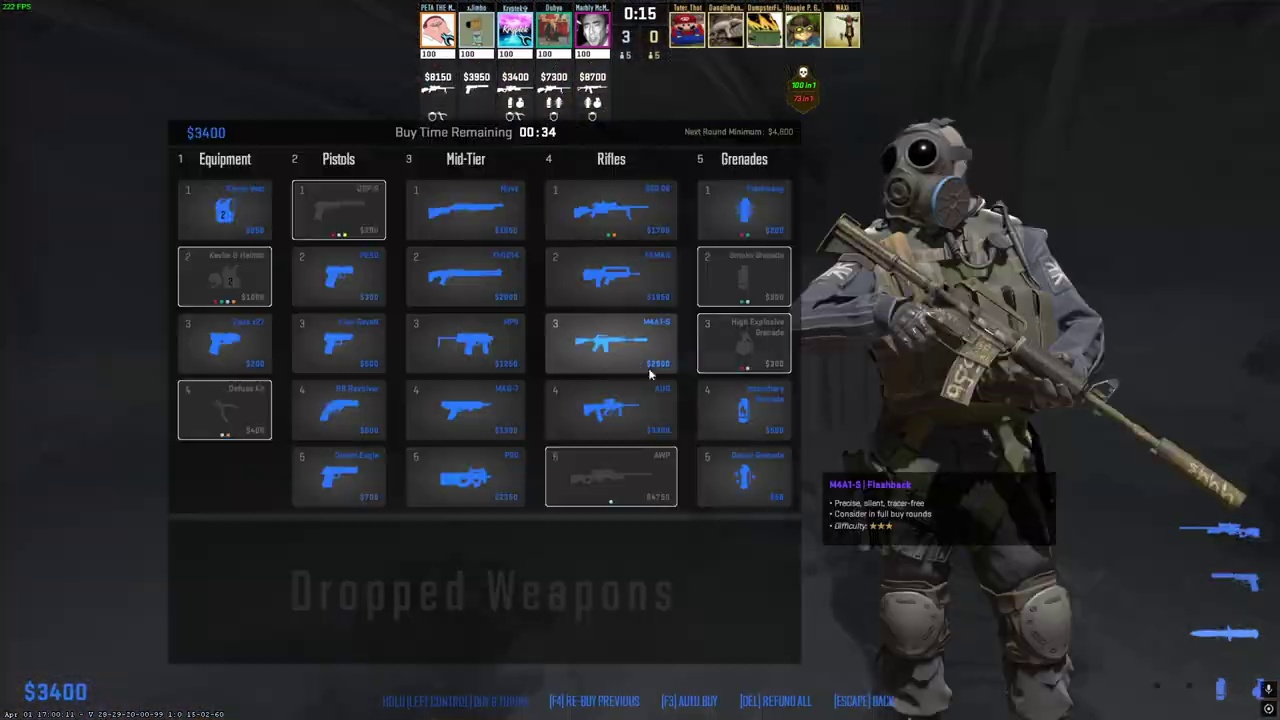CT: (845, 119, 1096, 720)
